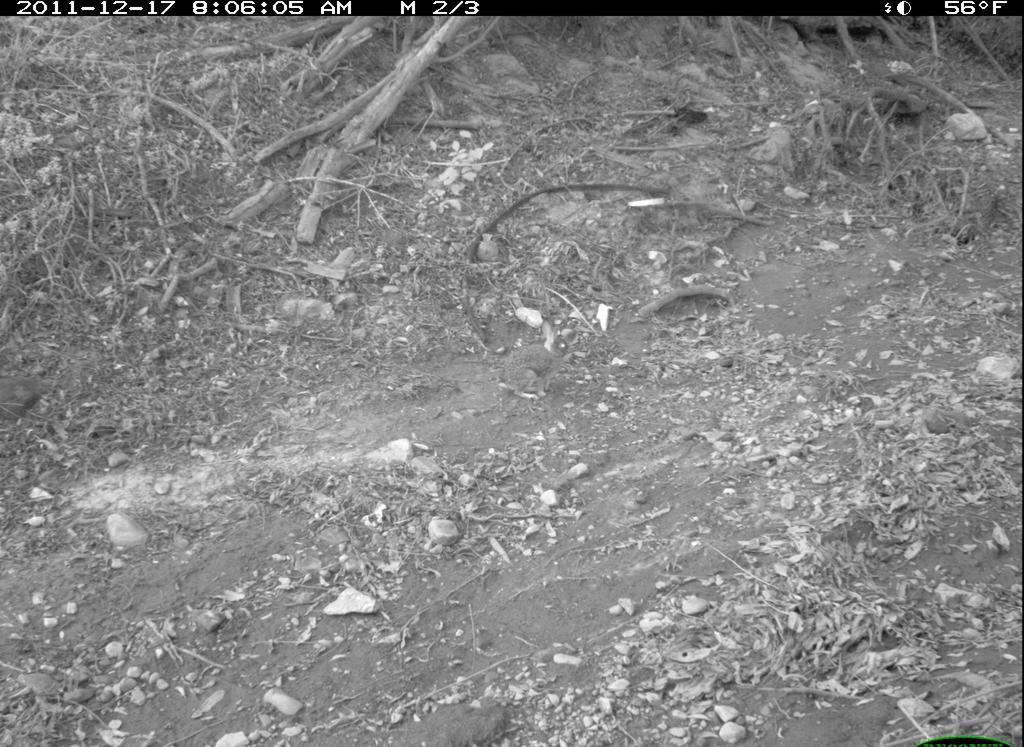rabbit: (489, 317, 580, 411)
